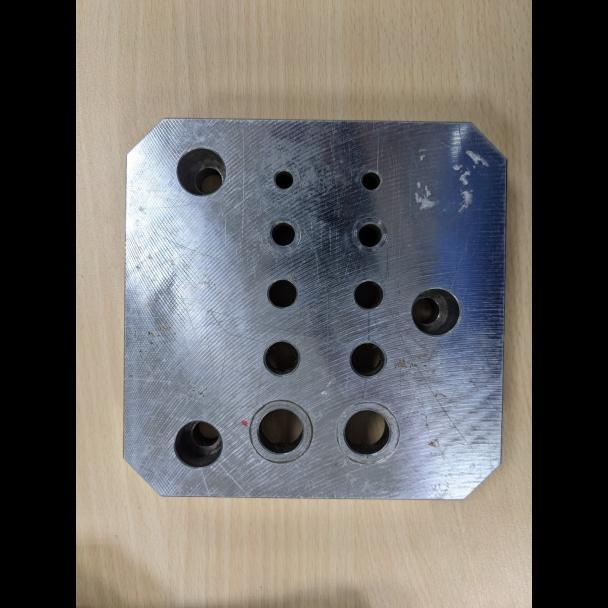hole: (239, 395, 320, 472), (328, 397, 404, 471), (164, 139, 234, 202), (166, 412, 230, 475), (405, 281, 467, 342), (256, 334, 307, 383), (341, 337, 395, 383), (344, 211, 393, 260), (261, 271, 305, 314), (343, 275, 390, 315), (259, 213, 304, 254), (261, 160, 302, 199), (349, 162, 388, 199)
